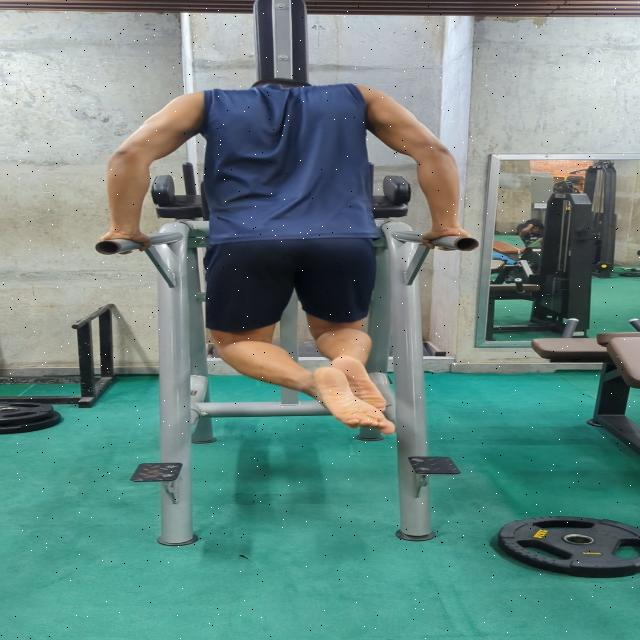Normal_Dips: (89, 71, 510, 436)
